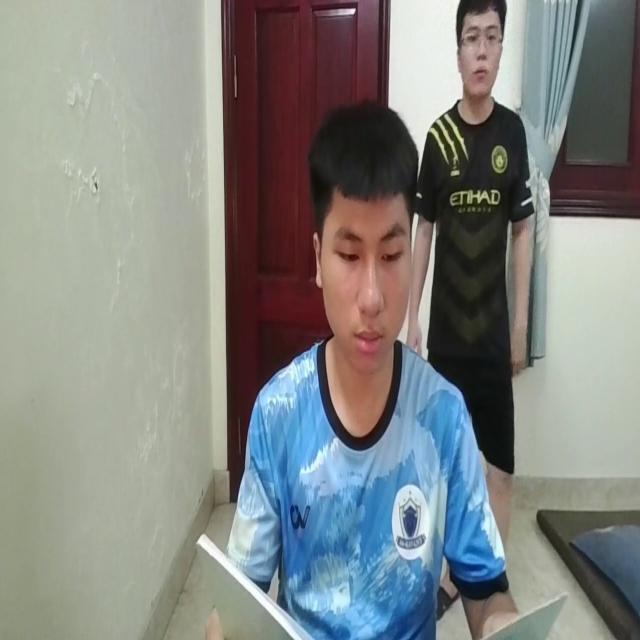book: (198, 526, 295, 640)
extra_person: (418, 2, 534, 457)
student: (237, 105, 509, 630)
